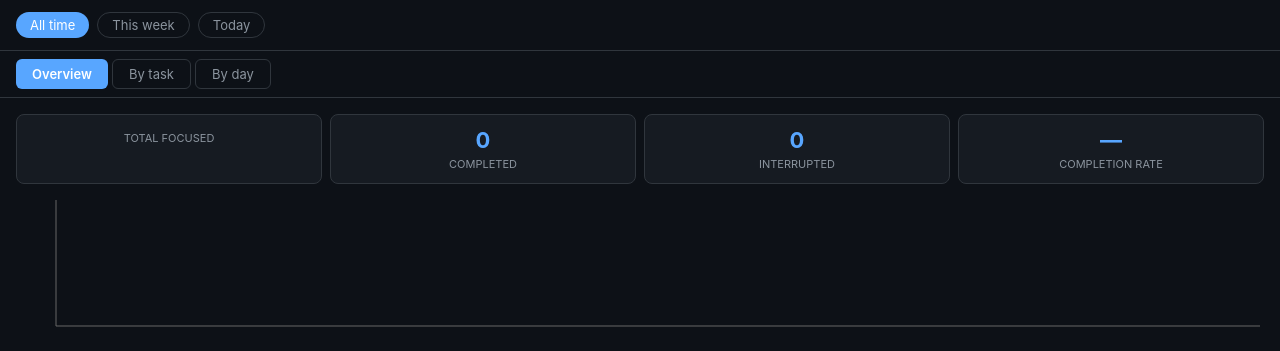
clicking By Day switches content
Step 1. Click the button "By day" → click(233, 74), box [195,59,271,89]
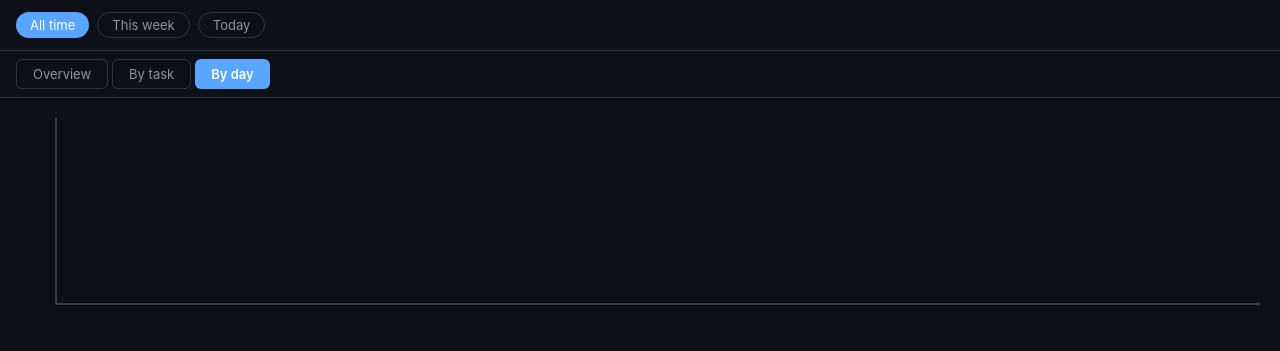
Result: the element with test id "byday-chart" is shown
